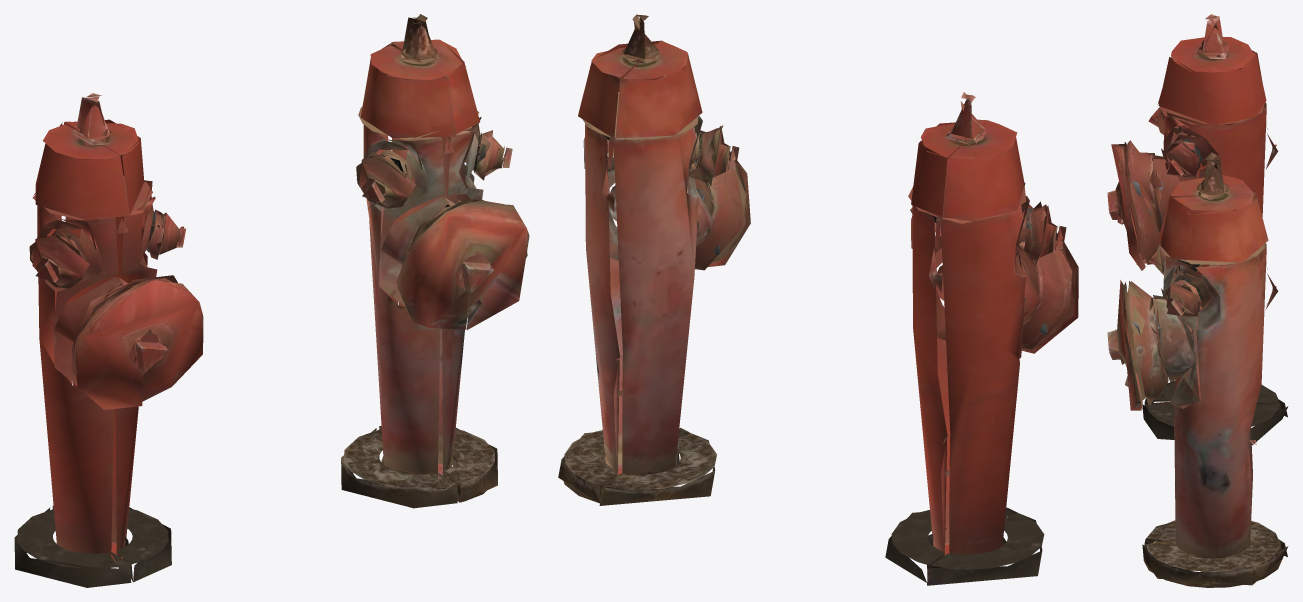
The model's file is ph_fire_hydrant.glb.
3 views of the same model, side by side, from view 1: azimuth 30°, elevation 25°; view 2: azimuth 150°, elevation 25°; view 3: azimuth 270°, elevation 25° (orthographic). The views are drawn at different scales.
Visible parts, largest first — view 1: fire_hydrant; view 2: fire_hydrant; view 3: fire_hydrant.
Part boxes in pixels (x1,y1,x2,y2): fire_hydrant: [14, 14, 529, 587]; fire_hydrant: [558, 14, 1078, 585]; fire_hydrant: [1107, 14, 1288, 587].
Size of the model in its own units: 0.8733 by 0.8079 by 0.3282.
2 materials, 2 textured.
